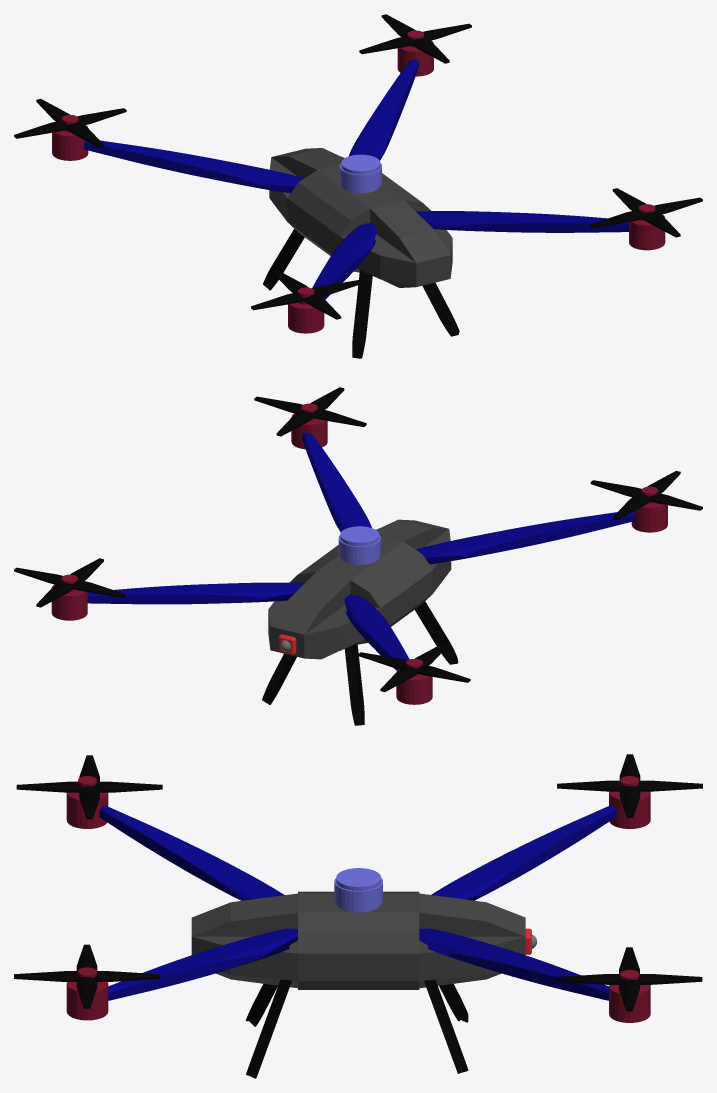
The model's file is Drone.fbx.
3 renders of one model, top to bottom at view 1: azimuth 30°, elevation 25°; view 2: azimuth 150°, elevation 25°; view 3: azimuth 270°, elevation 25°, orthographic. The views are drawn at different scales.
Parts seen in each view (by area): view 1: Body, FrontLeftHand, BackRightHand, FrontRightHand, BackLeftHand, Propeller_4, Propeller_1, Propeller_2, Propeller_3, LiDAR, Leg3, BL_Rotor (+5 smaller); view 2: Body, BackLeftHand, FrontRightHand, BackRightHand, FrontLeftHand, Propeller_1, Propeller_4, Propeller_3, Propeller_2, LiDAR, Leg4, FR_Rotor (+5 smaller); view 3: Body, BackLeftHand, FrontLeftHand, BackRightHand, FrontRightHand, Propeller_2, Propeller_3, Propeller_1, Propeller_4, LiDAR, BR_Rotor, FR_Rotor (+6 smaller).
Boxes of the visible parts, bbox=[...] form: Body: bbox=[269, 148, 452, 287]; FrontLeftHand: bbox=[84, 140, 304, 193]; BackRightHand: bbox=[416, 211, 628, 232]; FrontRightHand: bbox=[349, 59, 418, 160]; BackLeftHand: bbox=[312, 223, 376, 299]; Propeller_4: bbox=[590, 188, 702, 237]; Propeller_1: bbox=[359, 14, 471, 63]; Propeller_2: bbox=[14, 98, 126, 147]; Propeller_3: bbox=[251, 270, 363, 319]; LiDAR: bbox=[339, 154, 381, 193]; Leg3: bbox=[352, 270, 372, 358]; BL_Rotor: bbox=[288, 287, 324, 333]; Body: bbox=[268, 519, 451, 659]; BackLeftHand: bbox=[415, 511, 635, 564]; FrontRightHand: bbox=[87, 582, 304, 604]; BackRightHand: bbox=[302, 432, 371, 532]; FrontLeftHand: bbox=[344, 594, 409, 670]; Propeller_1: bbox=[14, 558, 126, 607]; Propeller_4: bbox=[254, 387, 366, 436]; Propeller_3: bbox=[590, 471, 702, 519]; Propeller_2: bbox=[358, 643, 470, 691]; LiDAR: bbox=[338, 526, 380, 564]; Leg4: bbox=[344, 643, 364, 725]; FR_Rotor: bbox=[51, 574, 87, 620]; Body: bbox=[191, 891, 525, 989]; BackLeftHand: bbox=[99, 805, 284, 900]; FrontLeftHand: bbox=[431, 805, 616, 900]; BackRightHand: bbox=[108, 928, 297, 1000]; FrontRightHand: bbox=[419, 928, 608, 1000]; Propeller_2: bbox=[557, 754, 702, 817]; Propeller_3: bbox=[16, 755, 162, 819]; Propeller_1: bbox=[556, 947, 702, 1011]; Propeller_4: bbox=[14, 944, 159, 1008]; LiDAR: bbox=[334, 868, 382, 912]; BR_Rotor: bbox=[66, 967, 108, 1020]; FR_Rotor: bbox=[609, 970, 650, 1022].
Bounding box in the file's own units: 330 × 290 × 92.69.
